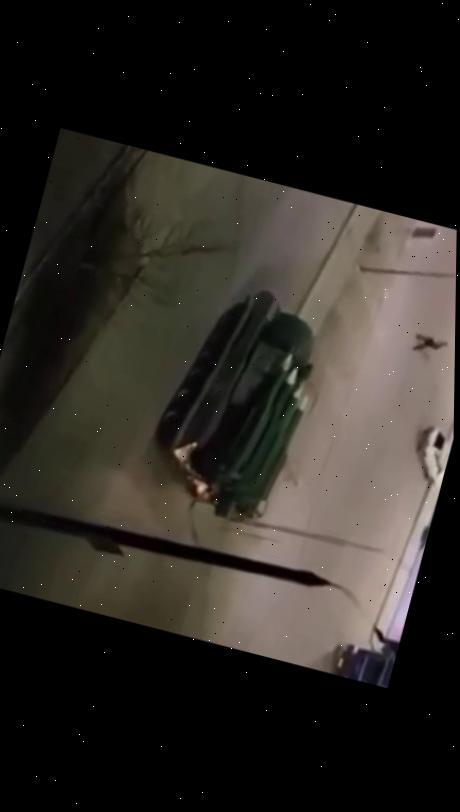car: (407, 420, 454, 487)
person: (409, 330, 450, 359)
rszo: (138, 267, 340, 534)
